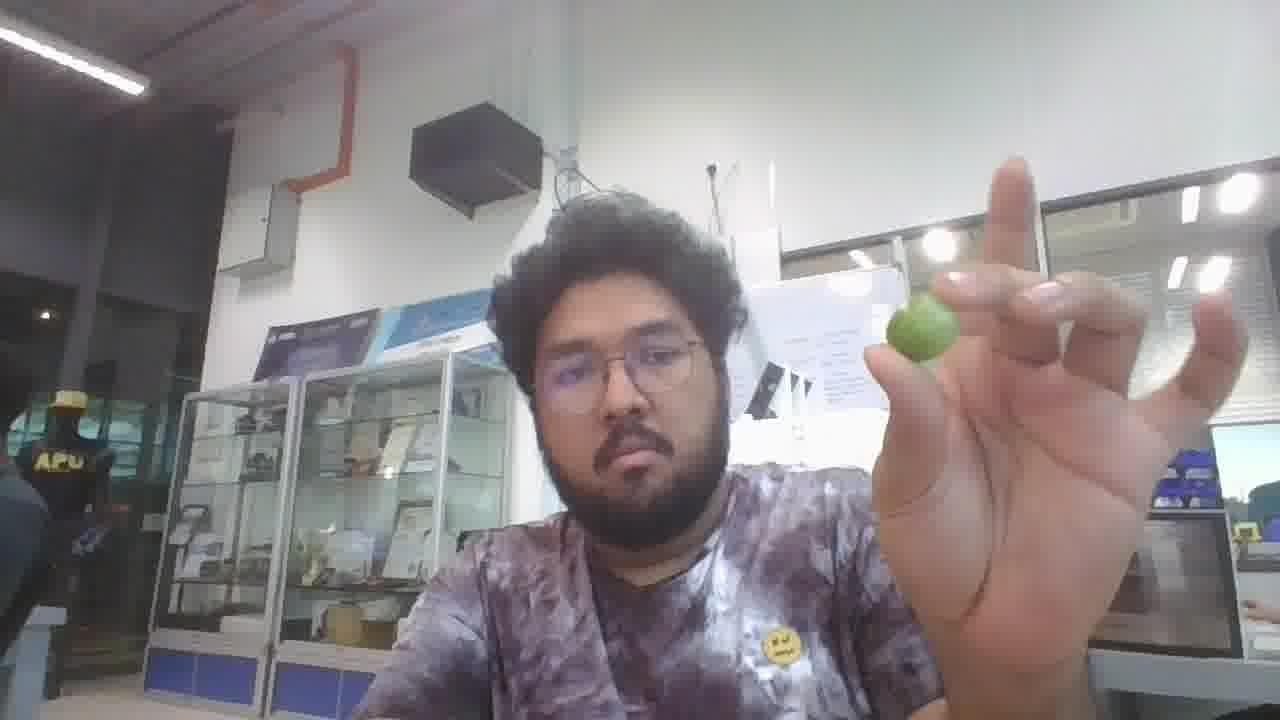green_cherry_tomato: (886, 293, 959, 362)
